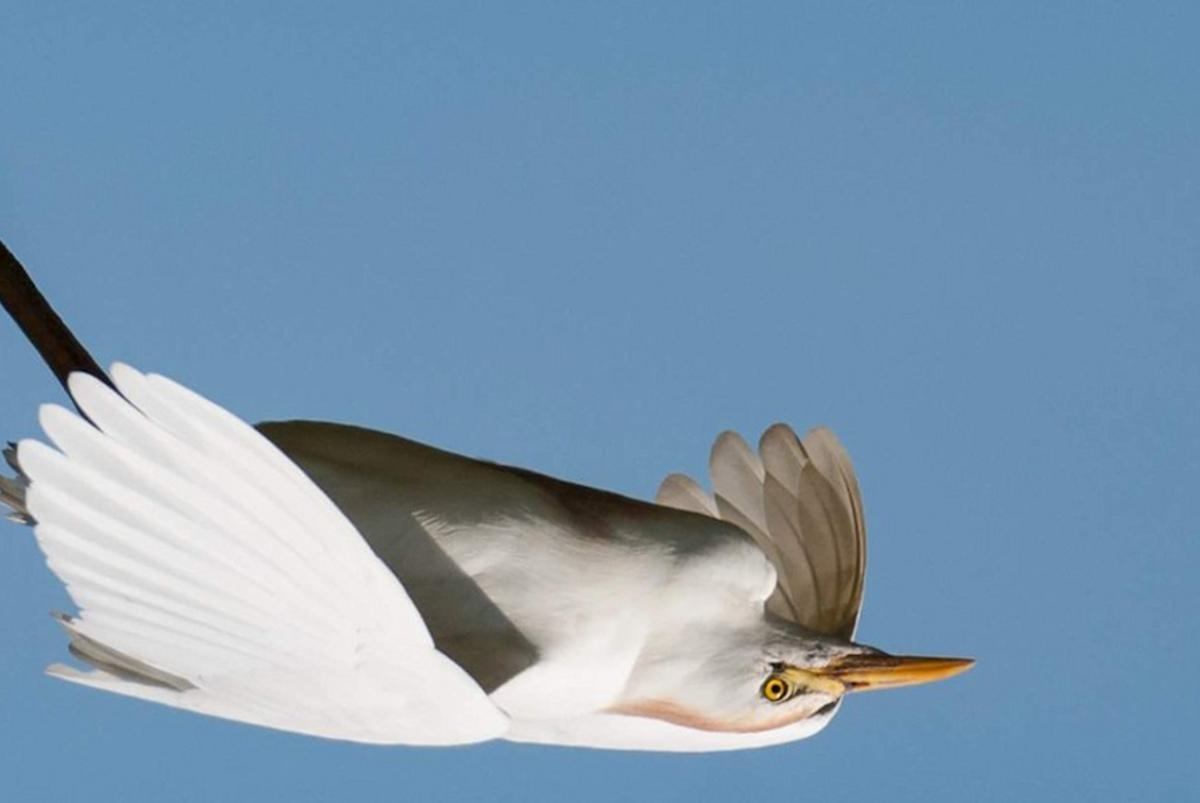egret: (1, 185, 986, 760)
